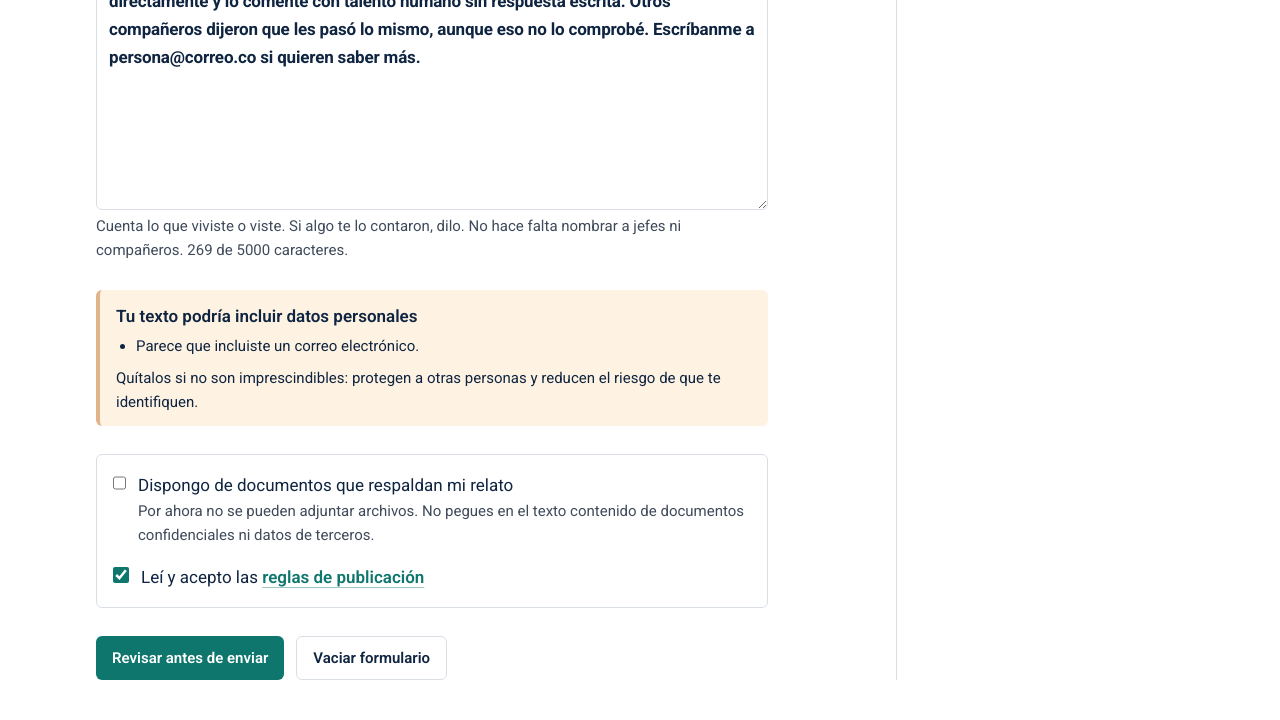
it: compartir una experiencia › sin cuenta permite compartir, entrega el enlace de seguimiento e invita a registrarse
This screenshot has width=1280, height=720.
(page scrolled)
Step 1. Click the button "Revisar antes de enviar" → click(190, 658), box x1=96 y1=636 x2=284 y2=680
(page scrolled)
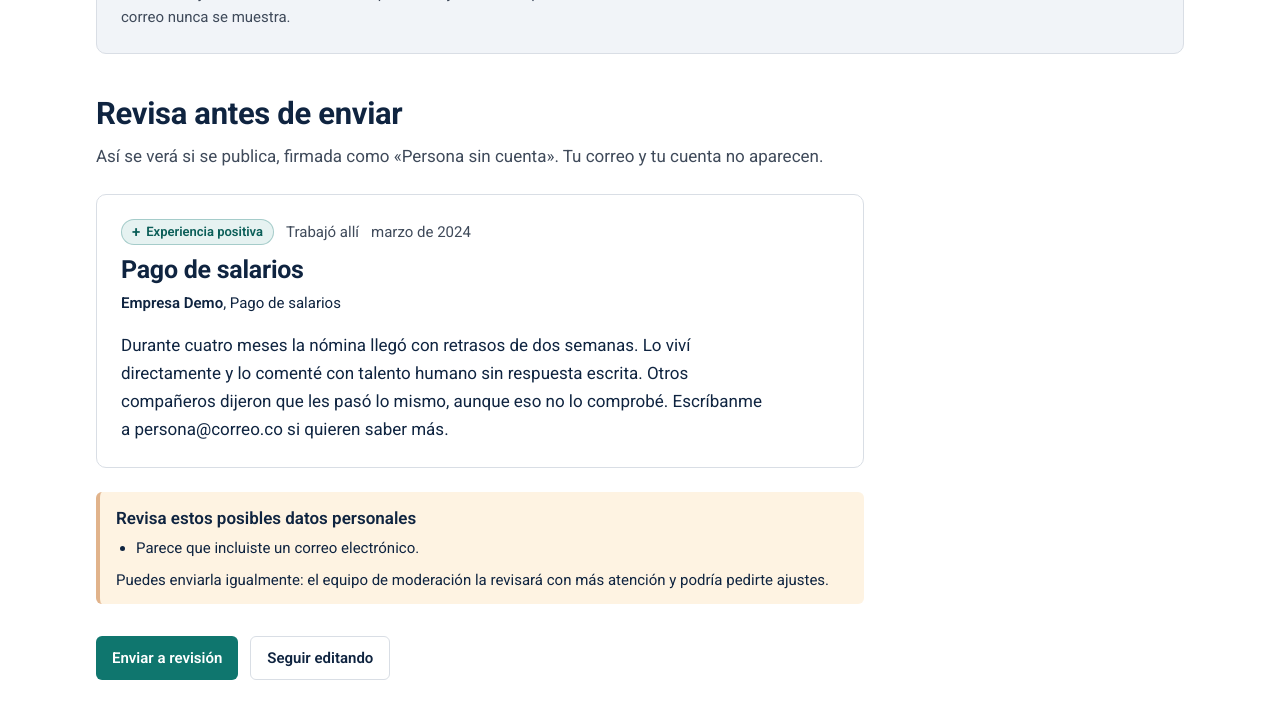
Now the text "firmada como «Persona sin cuenta»" is shown, box x1=276 y1=146 x2=554 y2=166
Step 2. Click the button "Enviar a revisión" → click(167, 658), box x1=96 y1=636 x2=238 y2=680
(page scrolled)
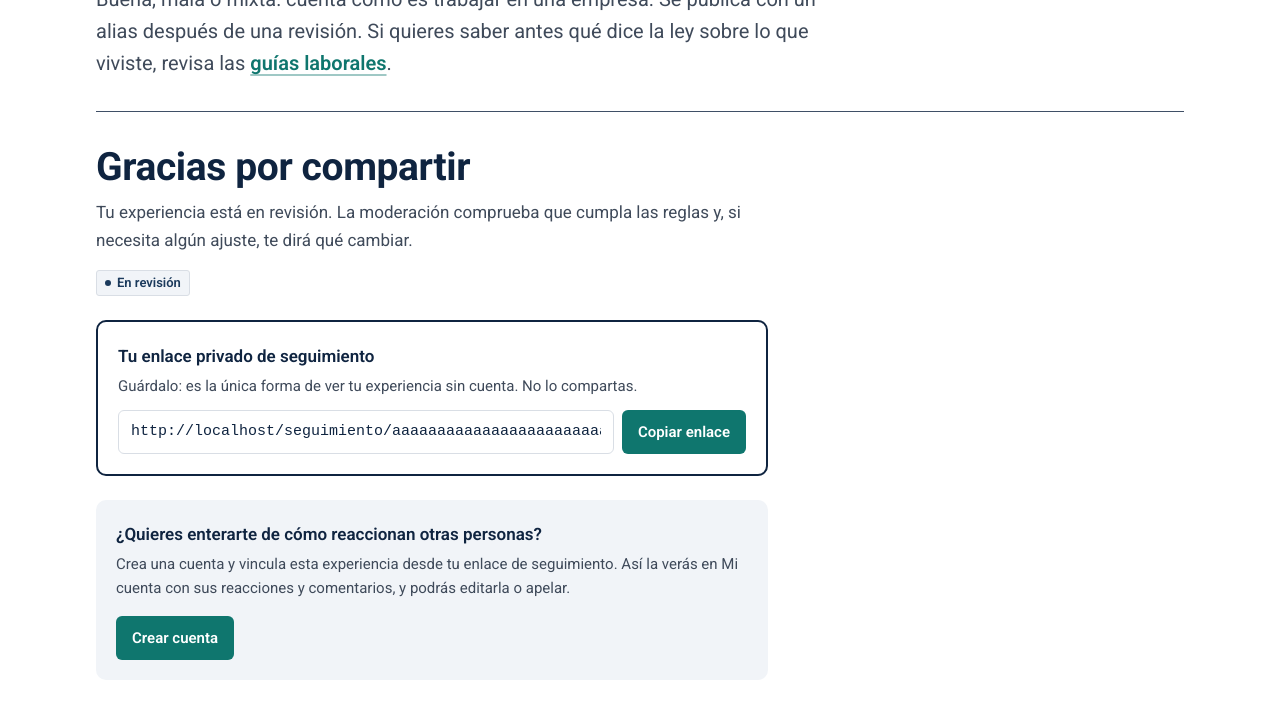
Now the heading "Gracias por compartir" is shown, box x1=96 y1=144 x2=470 y2=190
